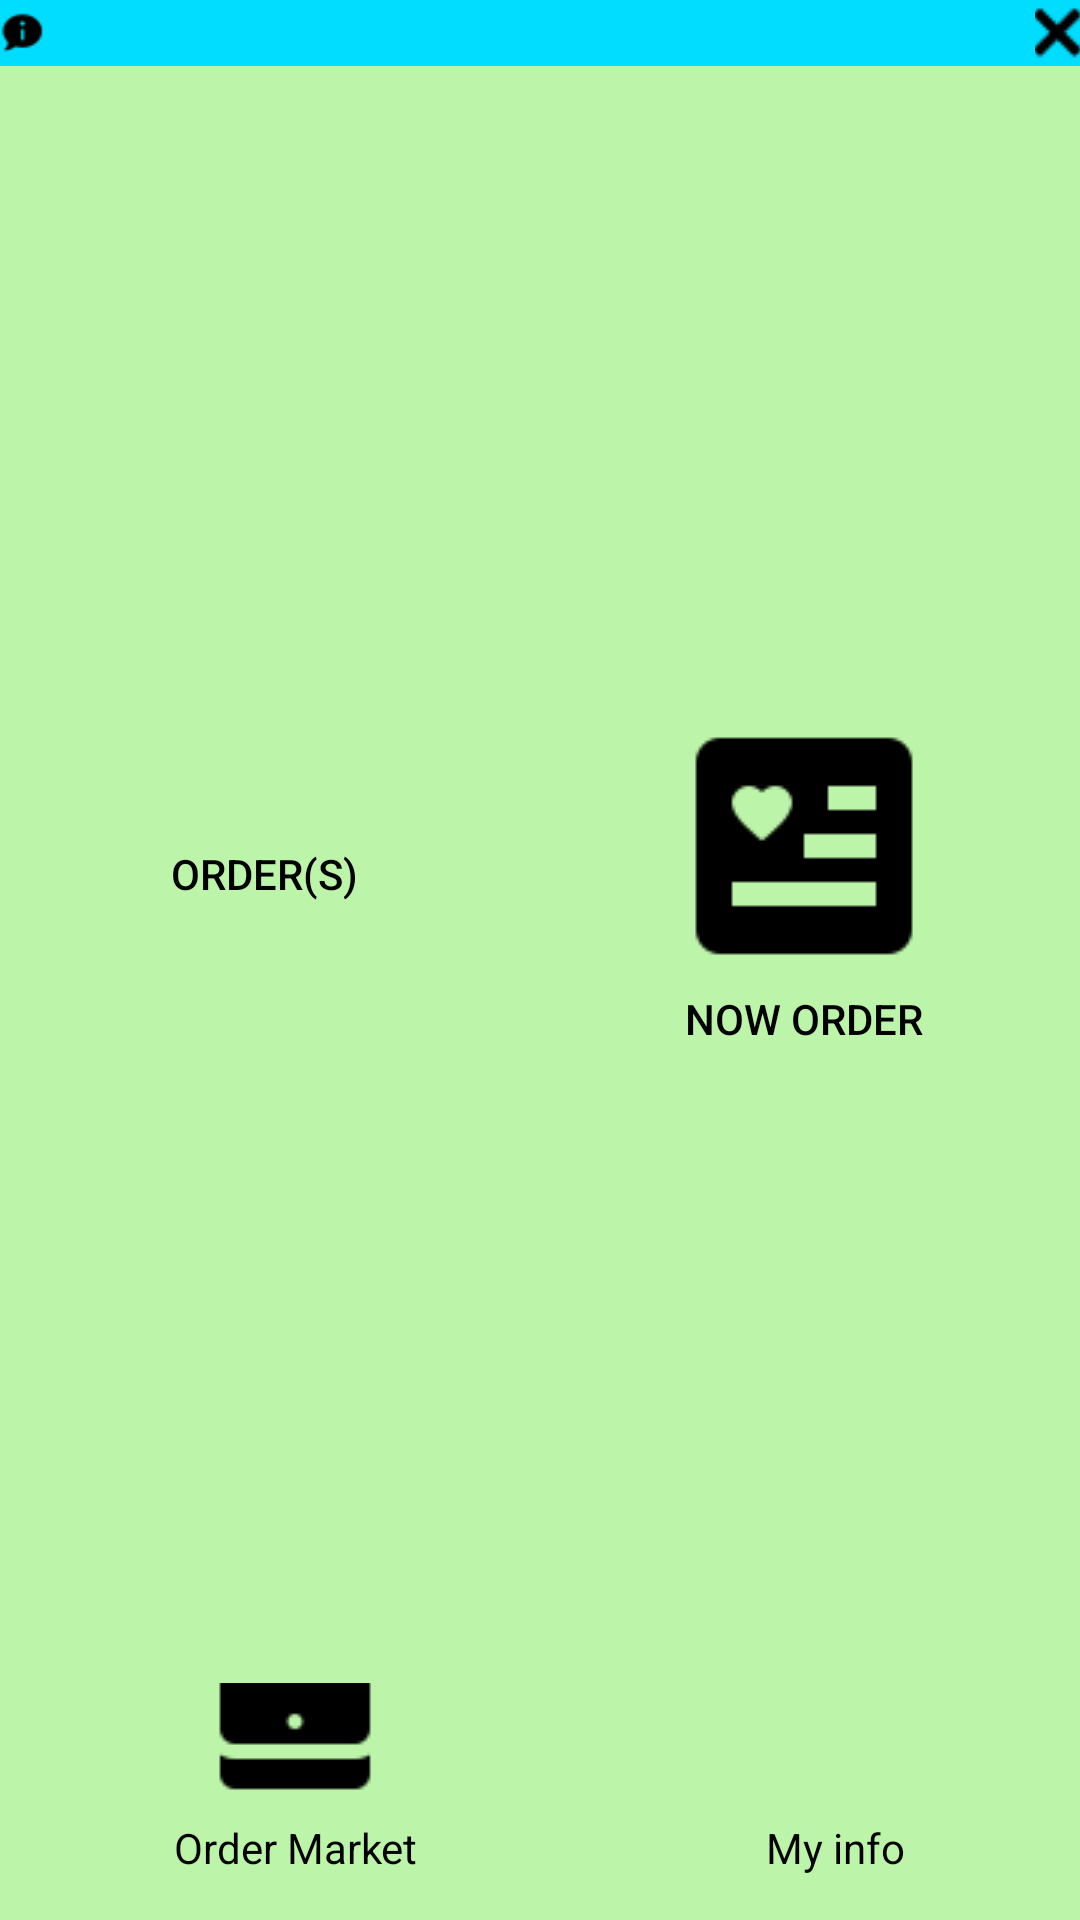

Where to tap for icons on this 1080px×1920px app screen, as (x,y):
announcement: (22,32)
close: (1057,33)
